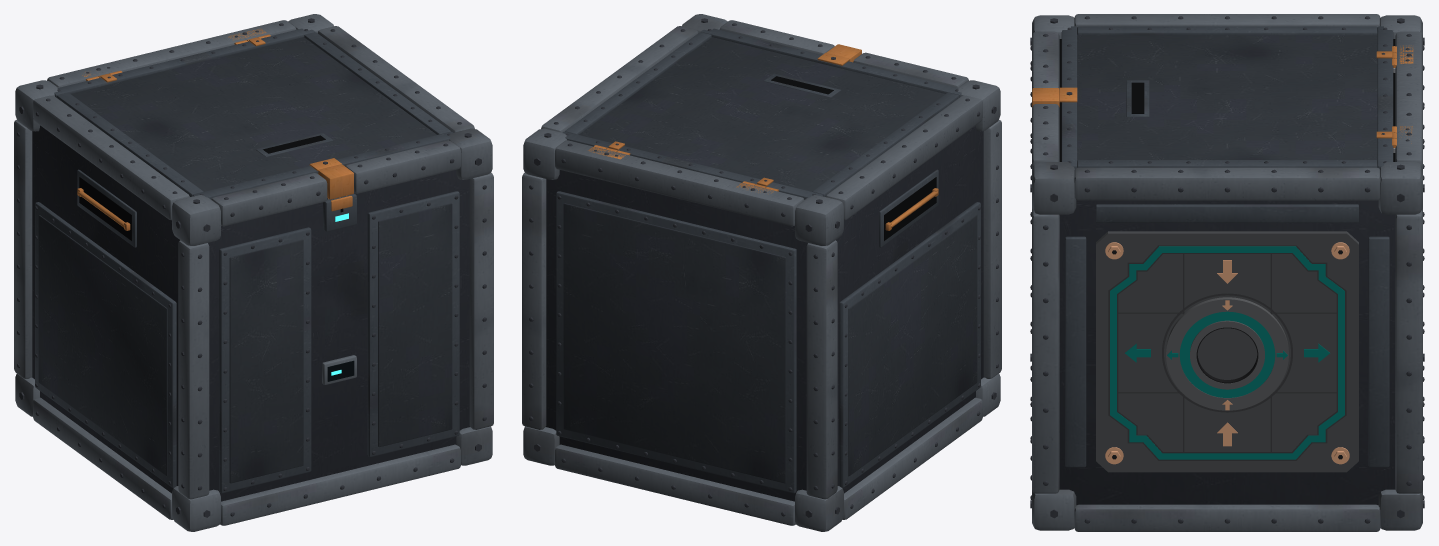
The model's file is small_chest.glb.
3 views of the same model, side by side, from view 1: azimuth 30°, elevation 25°; view 2: azimuth 150°, elevation 25°; view 3: azimuth 270°, elevation 25° (orthographic). The views are drawn at different scales.
Visible parts, largest first — view 1: Body.001, Lid.001; view 2: Body.001, Lid.001; view 3: Body.001, IOPort_face, Lid.001.
Part boxes in pixels (x1,y1,x2,y2): Body.001: (14,14,493,531); Lid.001: (54,28,453,211); Body.001: (522,14,1001,531); Lid.001: (562,28,961,199); Body.001: (1030,14,1424,531); IOPort_face: (1096,231,1358,472); Lid.001: (1032,26,1396,168).
Size of the model in its own units: 0.7495 by 0.7496 by 0.749.
Materials: 16 (7 with a texture image).
